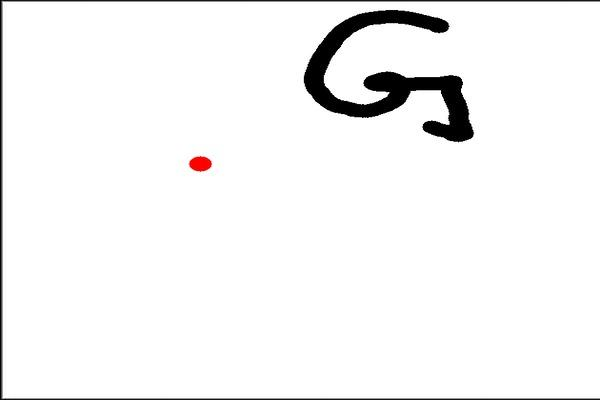G: (299, 4, 480, 145)
